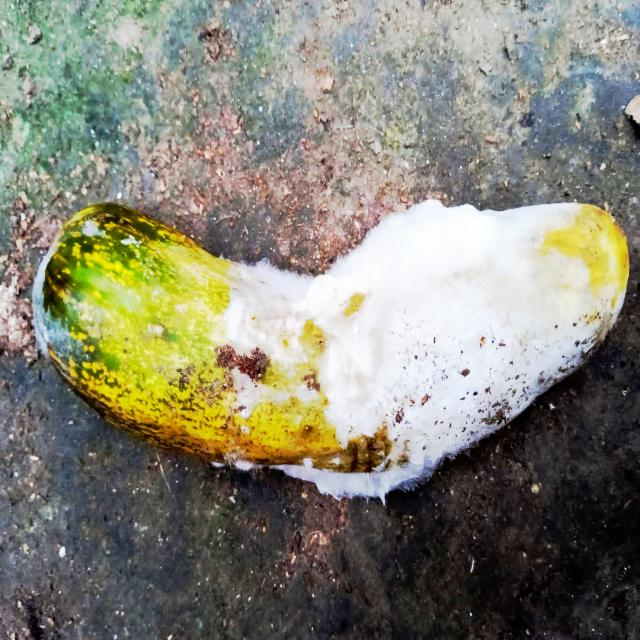Pythium-Fruit-Rot: (226, 195, 623, 502)
